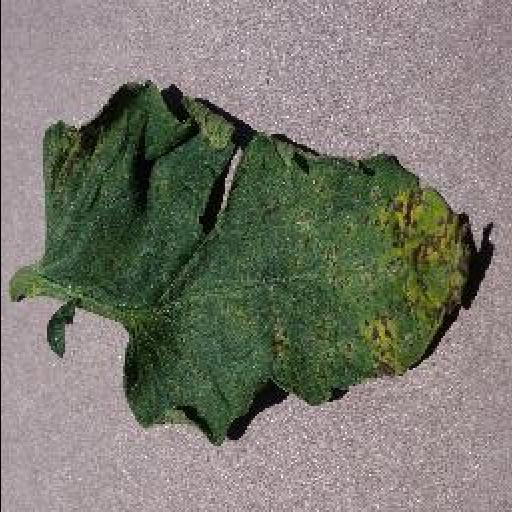disease_tomato: (42, 76, 478, 444)
